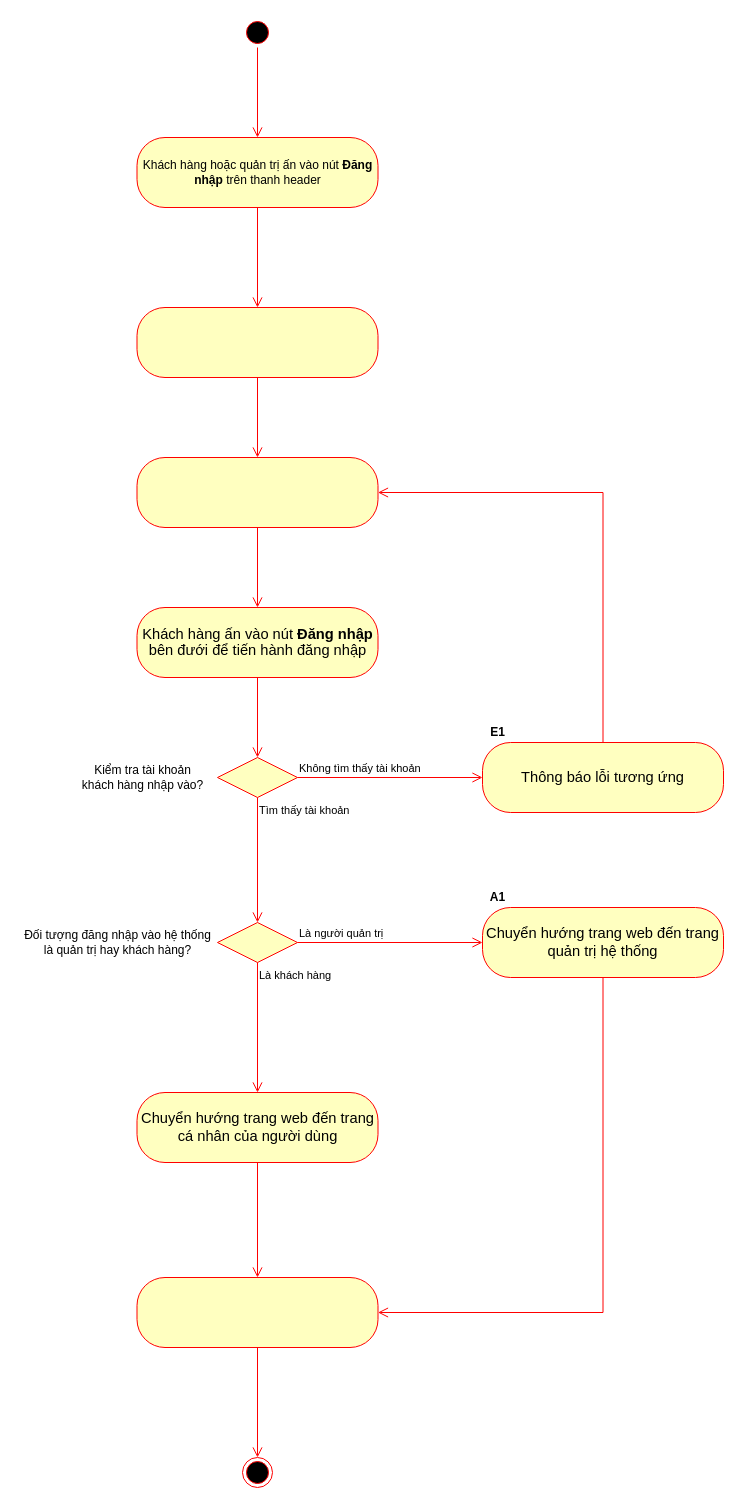
This 741x1505 diagram has some shape labels left out. Each missing label, with the centre of its shape:
"Chuyển hướng trang web đến trang đăng nhập của hệ thống." goes at point (257, 342).
"Khách hàng, Quản trị nhập tài khoản gmail và mật khẩu của họ" goes at point (257, 492).
"Đăng nhập hệ thống thành công" goes at point (257, 1312).
